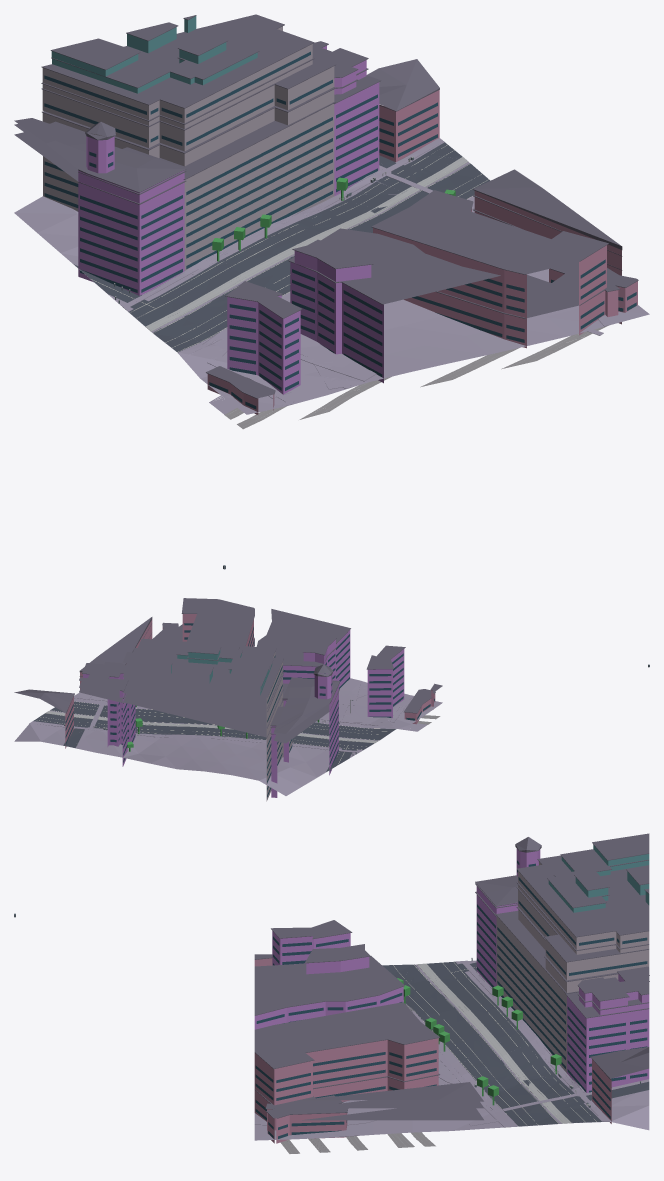
3 views of the same model, one above another, from view 1: azimuth 30°, elevation 25°; view 2: azimuth 150°, elevation 25°; view 3: azimuth 270°, elevation 25° (orthographic). The views are drawn at different scales.
Parts seen in each view (by area): view 1: compiled-chunk; view 2: compiled-chunk; view 3: compiled-chunk.
Boxes of the visible parts, left/top/right/bottom form: compiled-chunk: left=14, top=14, right=649, bottom=569; compiled-chunk: left=14, top=598, right=649, bottom=801; compiled-chunk: left=14, top=833, right=649, bottom=1153.
Bounding box in the file's own units: 169 × 61.34 × 193.
